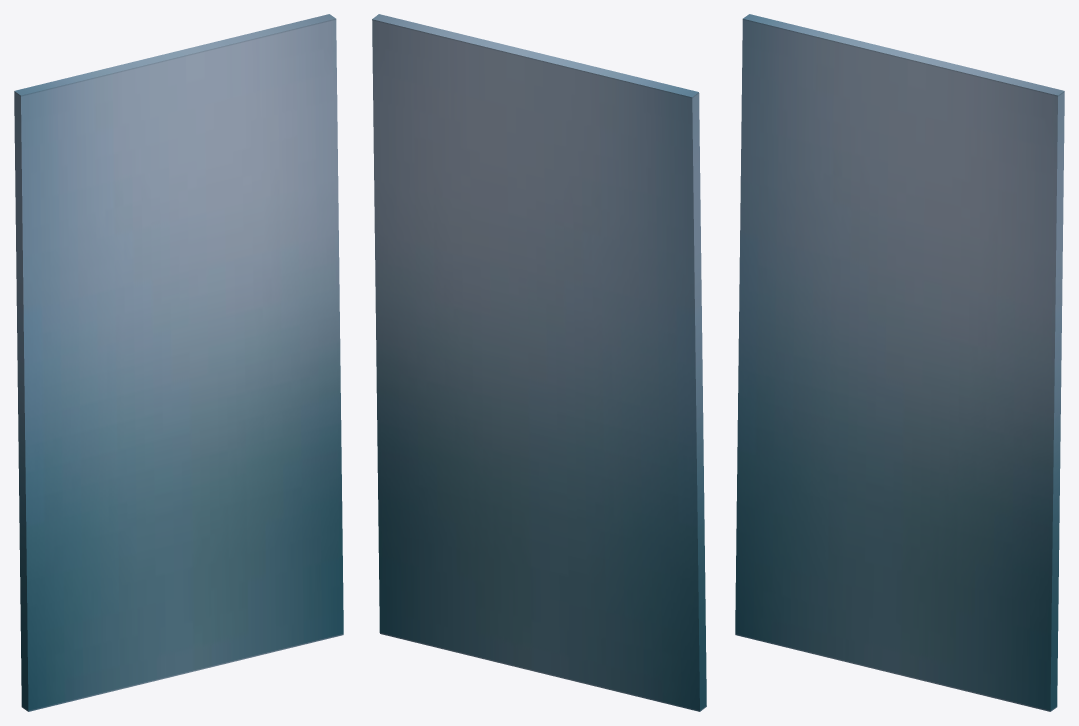
The model's file is glass.fbx.
3 renders of one model, left to right at view 1: azimuth 30°, elevation 25°; view 2: azimuth 150°, elevation 25°; view 3: azimuth 330°, elevation 25°, orthographic.
Visible parts, largest first — view 1: window.001; view 2: window.001; view 3: window.001.
Boxes of the visible parts, x1,y1,x2,y2 form: window.001: (14,14,343,711); window.001: (372,14,706,711); window.001: (735,14,1064,711).
Size of the model in its own units: 919 by 1703 by 72.31.
